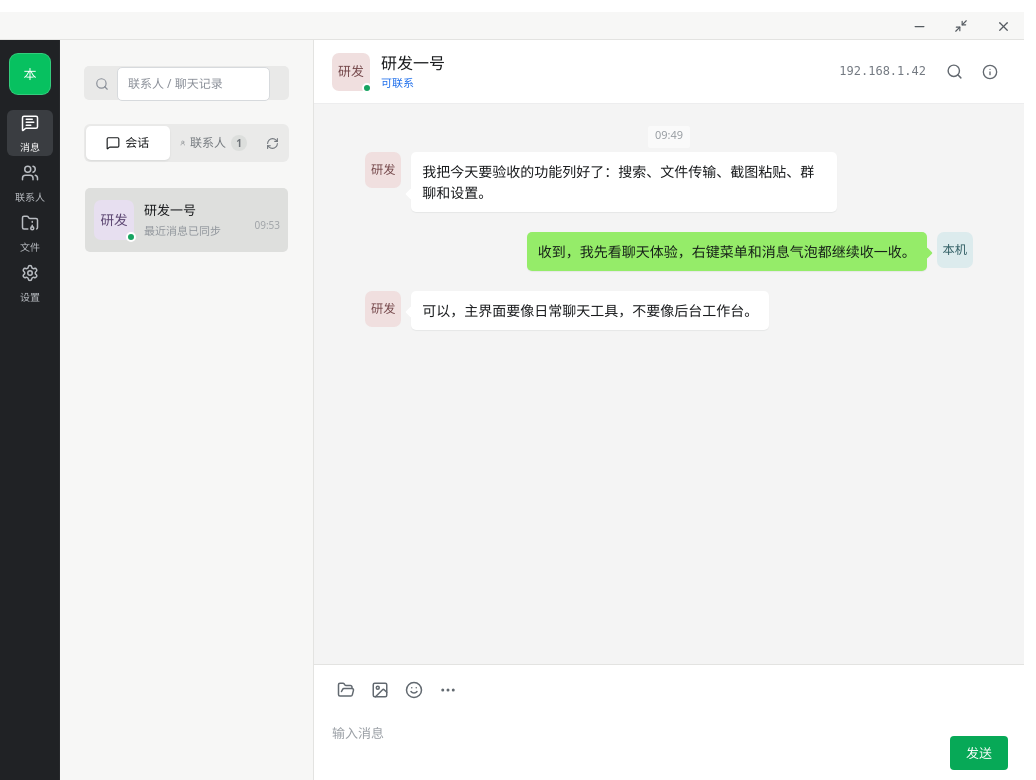
Scenario: App › shows a clear error when current conversation search fails
Click the button named "搜索聊天记录" at (954, 72), box [938,56,970,88]
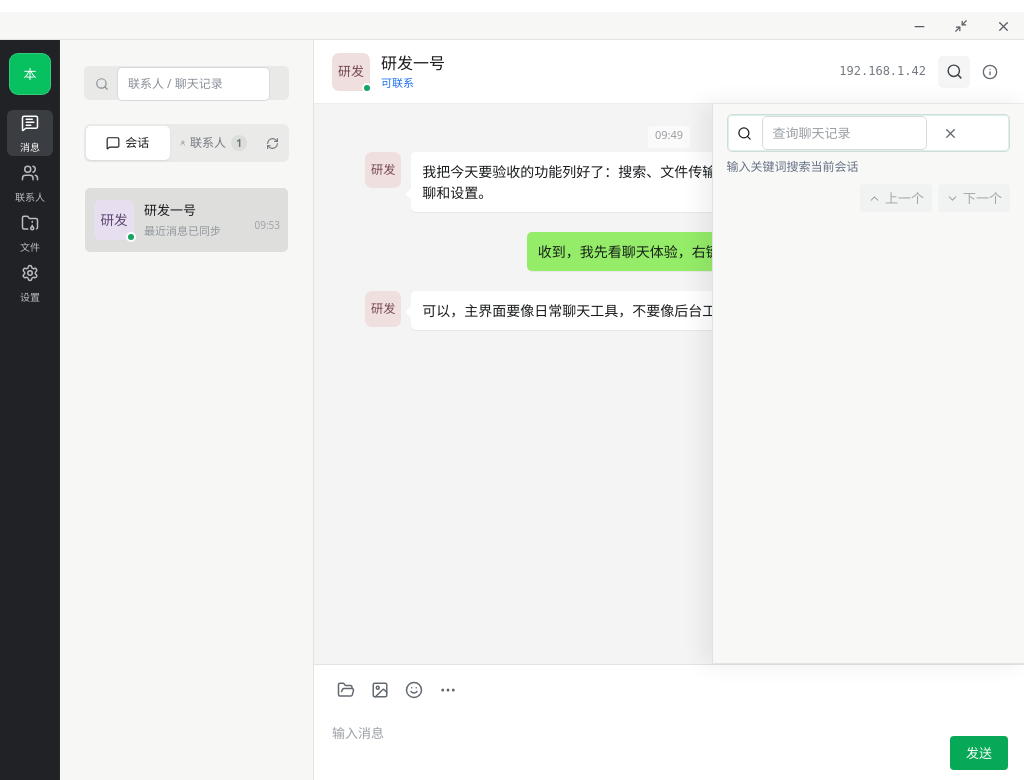
Type "文件" into the field with placeholder "查询聊天记录" at (844, 133), box [762,116,927,150]
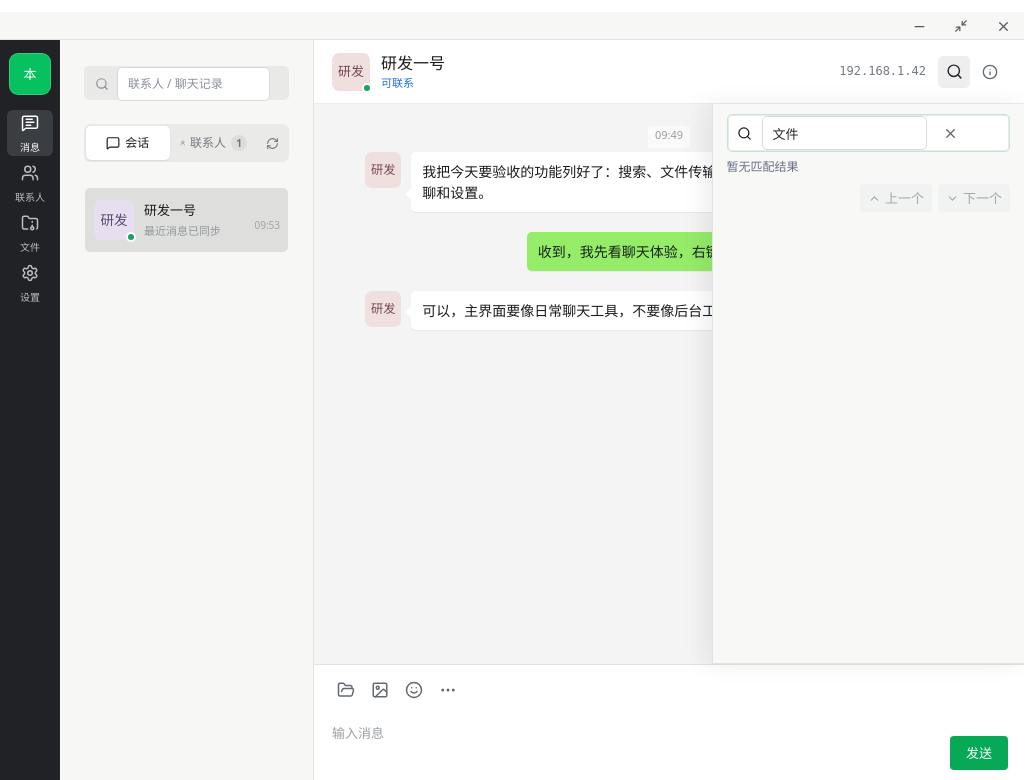
Now the element with placeholder "查询聊天记录" is shown, box [712,104,1024,664]
Submit the 1st form, box [727,114,1010,152]
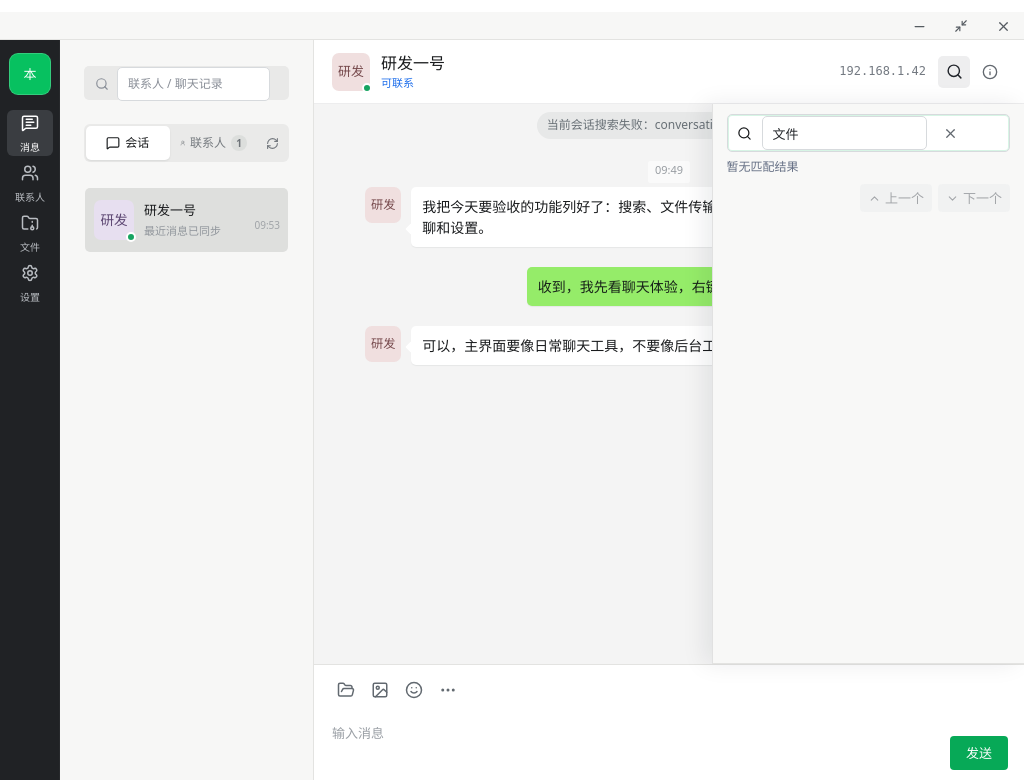
Now the text "当前会话搜索失败：conversation index busy" is shown, box [537,112,801,139]
